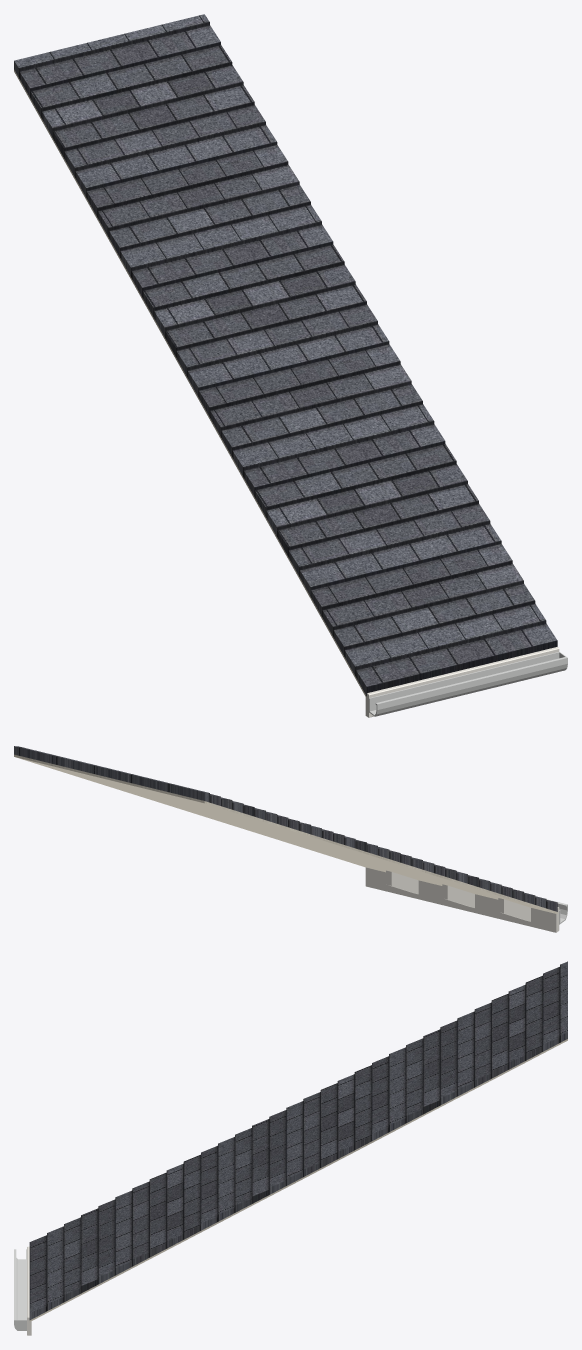
File: roof_store_front.glb
The picture shows the model from 3 angles, top to bottom: view 1: azimuth 30°, elevation 25°; view 2: azimuth 150°, elevation 25°; view 3: azimuth 270°, elevation 25°; orthographic projection. The views are drawn at different scales.
Parts seen in each view (by area): view 1: roof_store_front_shingles, roof_store_front_gutter, roof_store_front_trim, roof_store_front_plaster; view 2: roof_store_front_plaster, roof_store_front_shingles, roof_store_front_trim; view 3: roof_store_front_shingles, roof_store_front_plaster, roof_store_front_gutter.
Part boxes in pixels (box(x1,y1,x2,y2)): roof_store_front_shingles: box(14, 14, 557, 696); roof_store_front_gutter: box(369, 651, 567, 716); roof_store_front_trim: box(365, 647, 559, 717); roof_store_front_plaster: box(14, 69, 366, 698); roof_store_front_plaster: box(14, 754, 557, 914); roof_store_front_shingles: box(14, 746, 557, 911); roof_store_front_trim: box(365, 867, 559, 932); roof_store_front_shingles: box(29, 961, 567, 1319); roof_store_front_plaster: box(29, 1039, 567, 1321); roof_store_front_gutter: box(14, 1249, 26, 1330).
Bounding box in the file's own units: 1.7 × 3.39 × 5.61.
4 materials, 2 textured.
